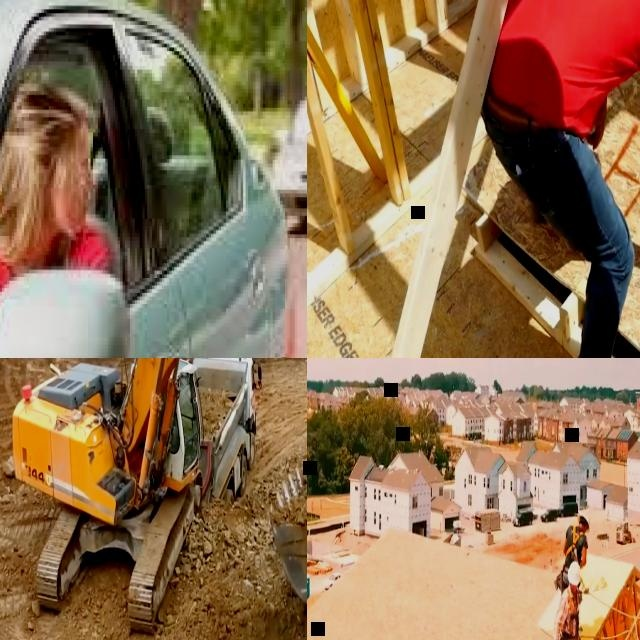Hardhat: (568, 560, 581, 584), (578, 507, 590, 531)
NO-Hardhat: (9, 84, 99, 157)
NO-Mask: (47, 187, 89, 235), (571, 586, 577, 592)
NO-Safety Vest: (491, 0, 640, 132), (563, 588, 579, 638), (566, 524, 583, 565)
Person: (481, 0, 640, 358), (0, 84, 113, 320), (548, 560, 586, 640), (559, 509, 589, 601), (172, 425, 179, 451)
Safety Cone: (286, 237, 304, 358)
machinery: (12, 358, 307, 640), (192, 358, 262, 503), (614, 519, 635, 544)
vehicle: (0, 0, 290, 358), (272, 88, 307, 233), (512, 508, 533, 526), (557, 501, 579, 517), (541, 507, 559, 523)
